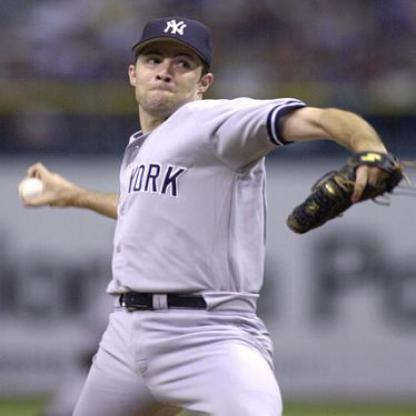face: (135, 20, 206, 116)
